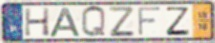A: (48, 6, 83, 38)
F: (137, 6, 162, 37)
H: (23, 7, 51, 38)
Q: (80, 5, 108, 39)
Z: (107, 6, 136, 38), (164, 6, 191, 37)
